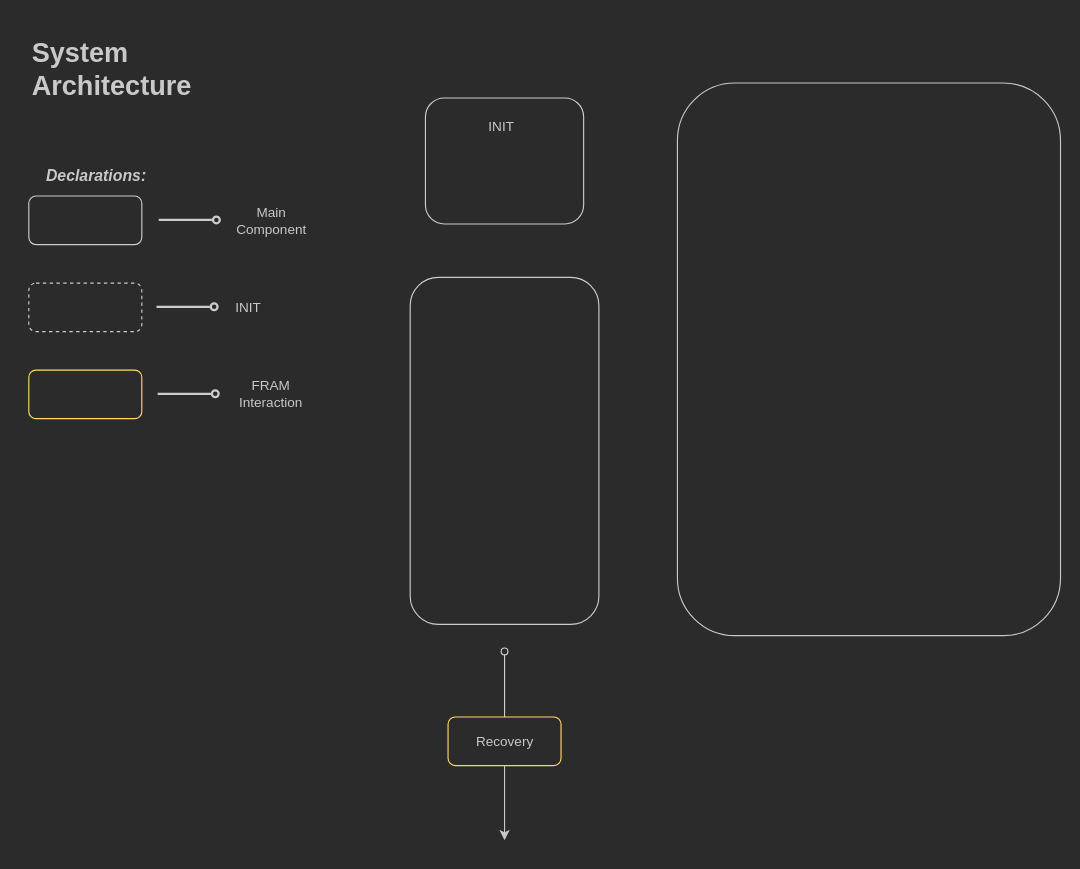
The diagram is 1080 pixels wide and 869 high, and some of its shapes have lost their labels. The shapes that lost their labels are listed below. From the top down, each one's box as (x1, y1, x2, y2) in pixels, then its label:
(676, 82, 1061, 636): NAV
(409, 276, 599, 624): CPU
